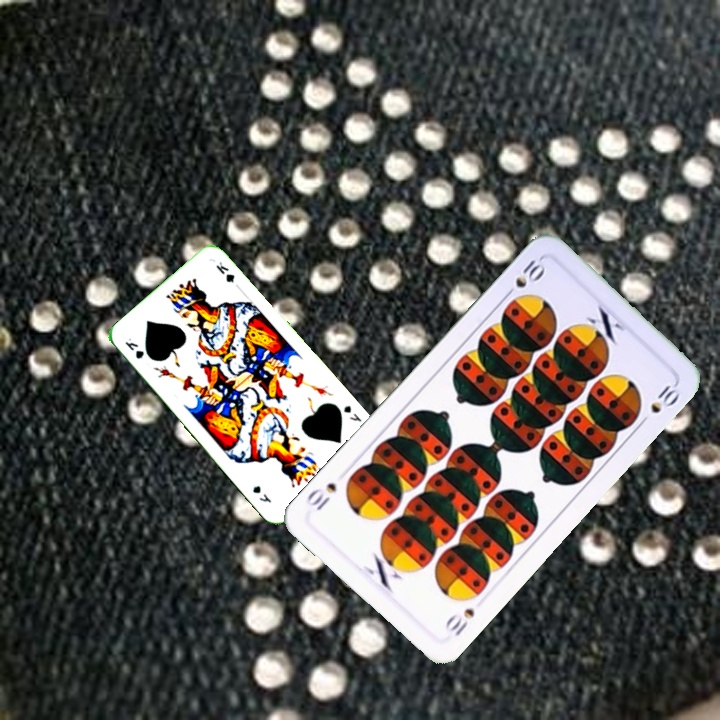GK: (121, 334, 147, 362), (339, 401, 364, 424)
S10: (499, 254, 549, 301), (440, 604, 477, 639)
